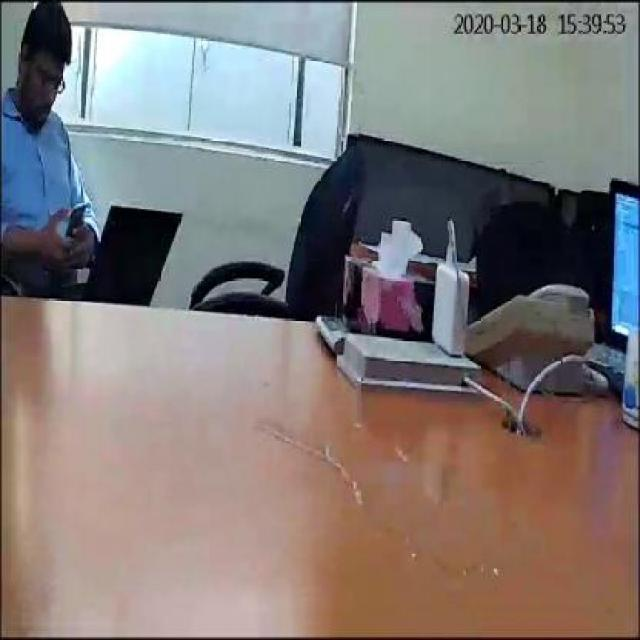spill: (259, 424, 576, 587)
